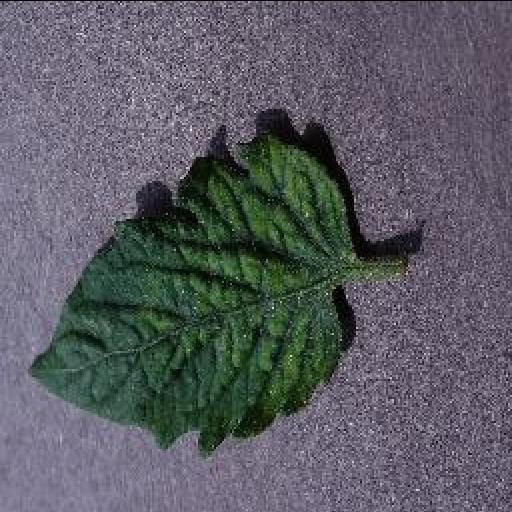disease_tomato: (24, 126, 356, 456)
